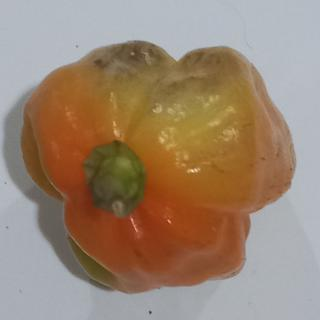Defect: (68, 36, 252, 99)
